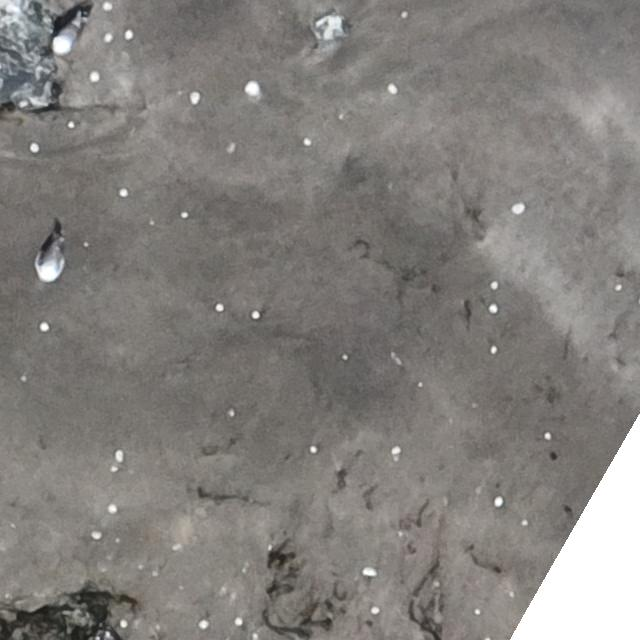umineko: (37, 236, 64, 286), (54, 20, 79, 52)
